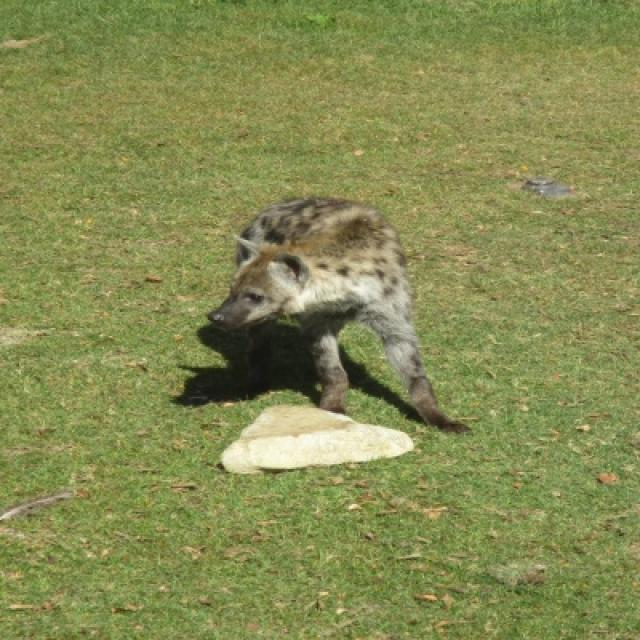hyena: (181, 197, 467, 435)
